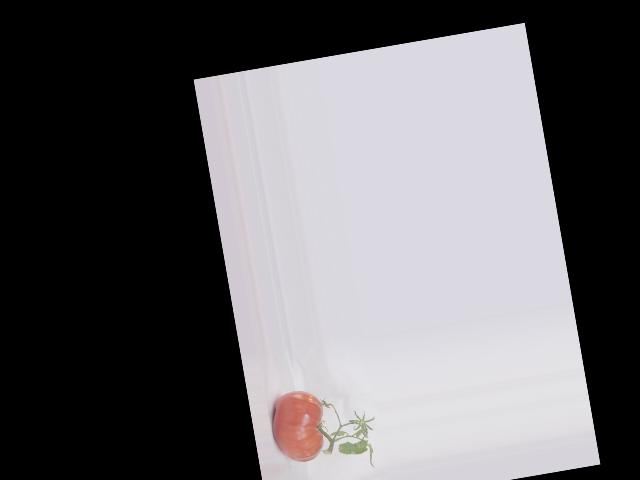tomato: (266, 386, 330, 466)
